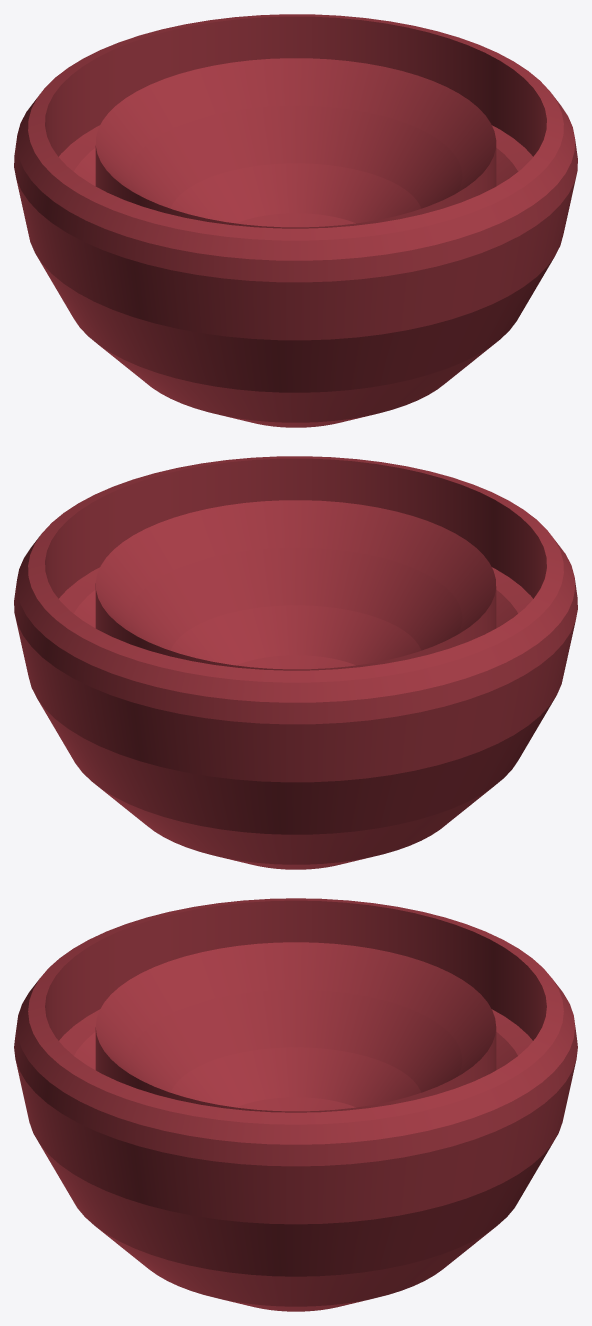
3 views of the same model, one above another, from view 1: azimuth 30°, elevation 25°; view 2: azimuth 150°, elevation 25°; view 3: azimuth 270°, elevation 25° (orthographic).
Visible parts, largest first — view 1: bowl; view 2: bowl; view 3: bowl.
Part boxes in pixels (x1,y1,x2,y2): bowl: (14, 14, 577, 427); bowl: (14, 456, 577, 869); bowl: (14, 898, 577, 1311).
Bounding box in the file's own units: 0.2 × 0.1099 × 0.2.
